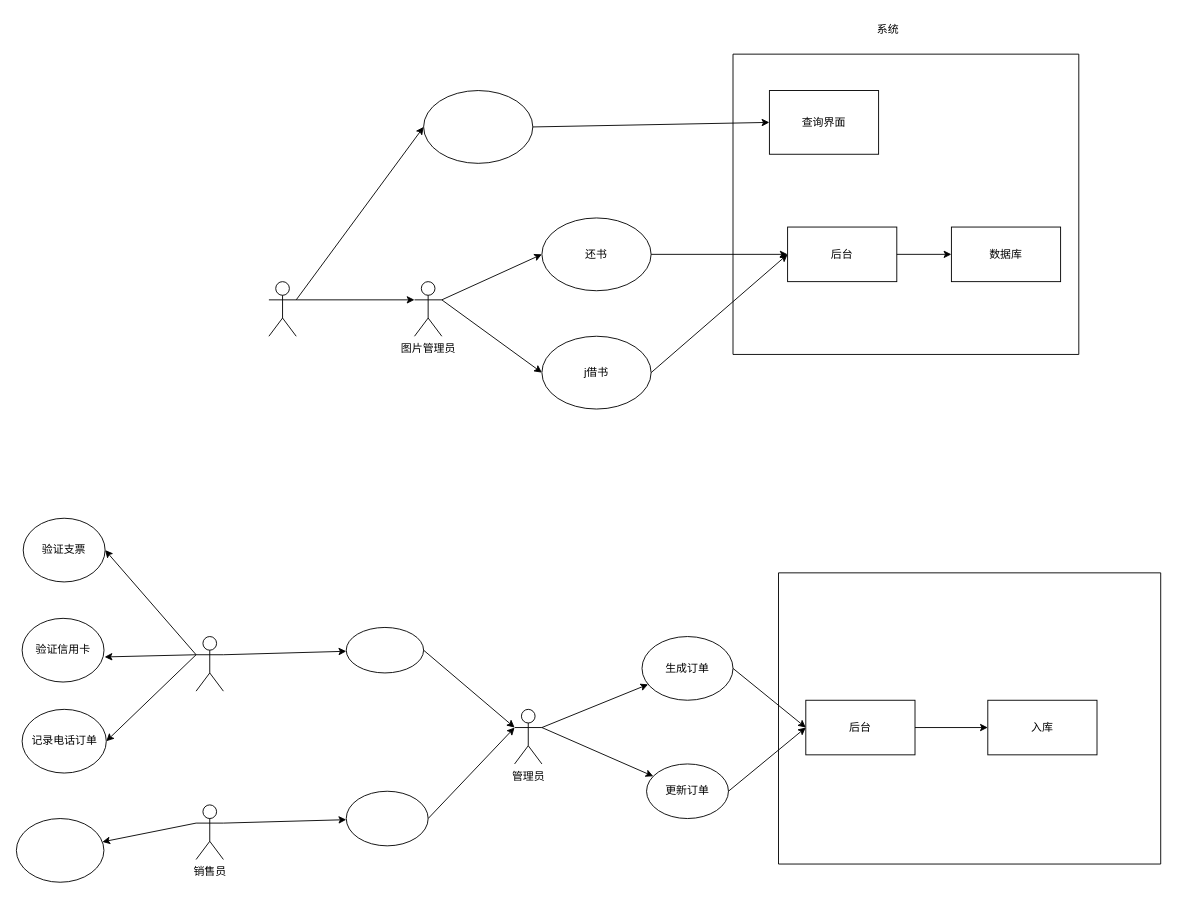
This 1177x898 diagram has some shape labels left out. The box of each missing label's shape, as (x1, y1, x2, y2) in pixels:
新的电话订单: (345, 627, 424, 673)
新的销售订单: (345, 790, 428, 846)
查询书信息: (423, 90, 533, 163)
用户: (268, 281, 296, 336)
电话操作员: (195, 636, 223, 691)
记录新订单: (15, 818, 104, 882)
销售系统: (778, 572, 1161, 864)
